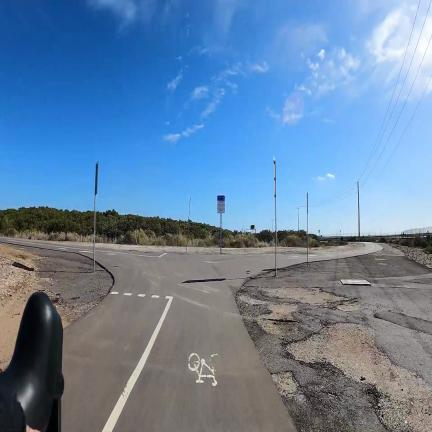Bike_Lane: (61, 280, 289, 432)
